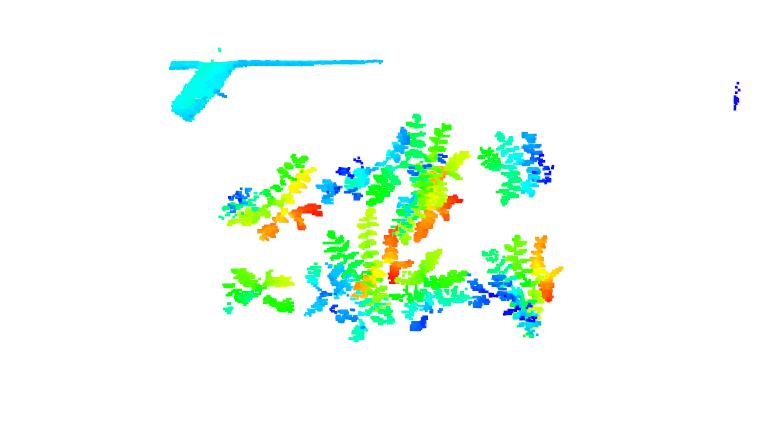chickpea: (310, 115, 426, 210), (393, 125, 476, 246), (307, 235, 395, 345), (214, 155, 327, 240), (394, 250, 488, 347), (485, 233, 566, 339), (480, 130, 555, 205), (221, 259, 294, 322)
